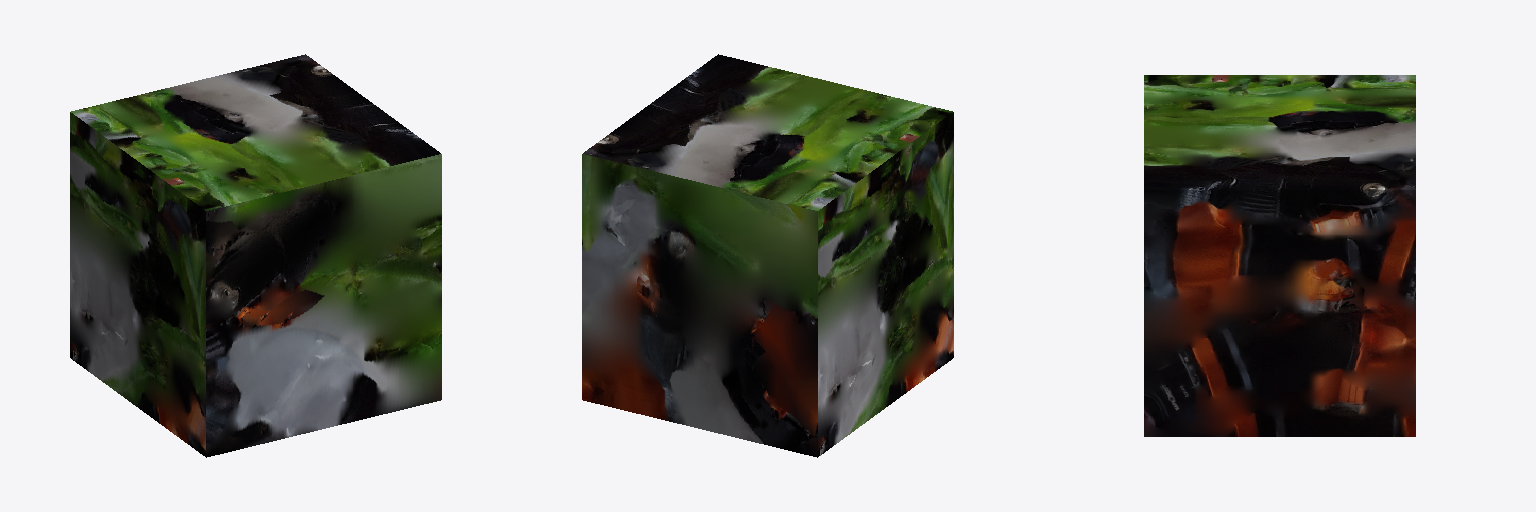
The picture shows the model from 3 angles: view 1: azimuth 30°, elevation 25°; view 2: azimuth 150°, elevation 25°; view 3: azimuth 270°, elevation 25°; orthographic projection.
Parts seen in each view (by area): view 1: Cube_Cube.001; view 2: Cube_Cube.001; view 3: Cube_Cube.001.
Part boxes in pixels (x1,y1,x2,y2): Cube_Cube.001: (70,54,441,457); Cube_Cube.001: (582,54,953,457); Cube_Cube.001: (1144,75,1415,436).
Bounding box in the file's own units: 2 × 2 × 2.
Materials: 1 (1 with a texture image).